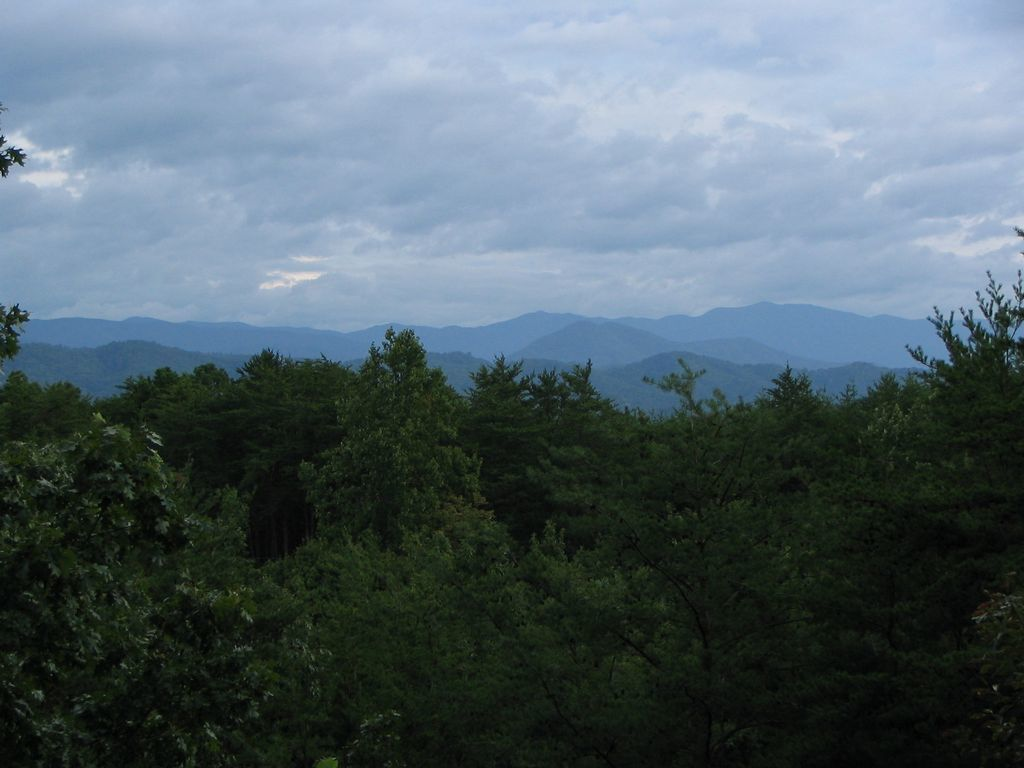Tree: (0, 97, 1022, 767), (309, 312, 471, 579)
